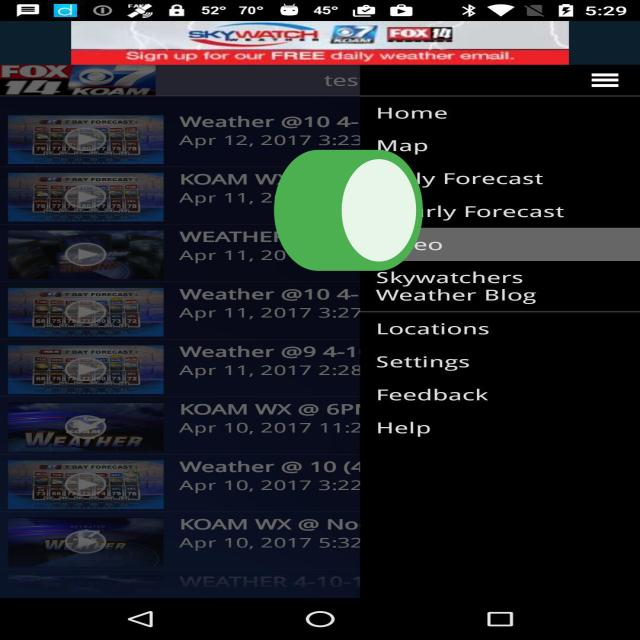social proof: (267, 103, 430, 327)
